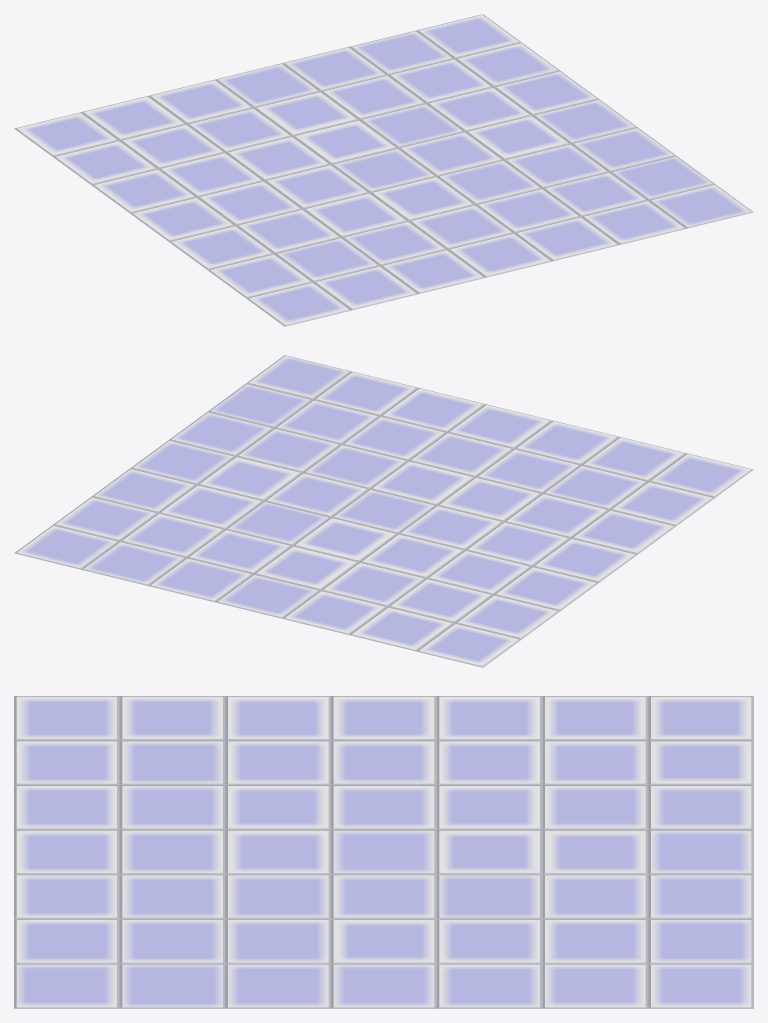
The model's file is Sol.fbx.
3 renders of one model, top to bottom at view 1: azimuth 30°, elevation 25°; view 2: azimuth 150°, elevation 25°; view 3: azimuth 270°, elevation 25°, orthographic. The views are drawn at different scales.
Visible parts, largest first — view 1: Sol; view 2: Sol; view 3: Sol.
Part boxes in pixels (x1,y1,x2,y2): Sol: [14, 14, 753, 326]; Sol: [14, 355, 753, 667]; Sol: [14, 696, 753, 1008].
Size of the model in its own units: 200 by 200 by 0.1823.
